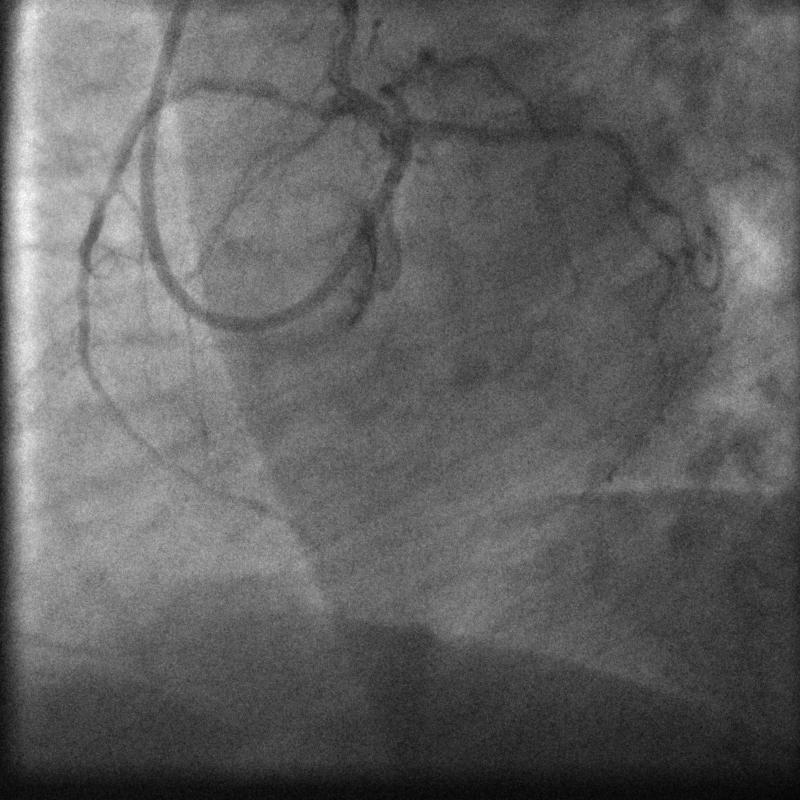Stenosis: (266, 78, 326, 123)
